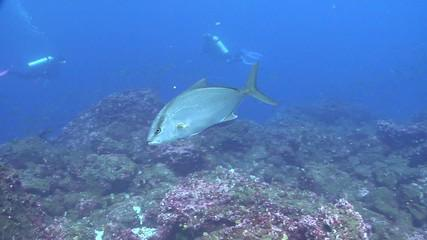Carangidae -Jacks-: (140, 53, 280, 147)
